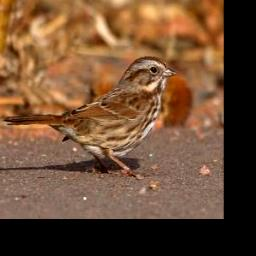Sparrow: (1, 51, 176, 180)
